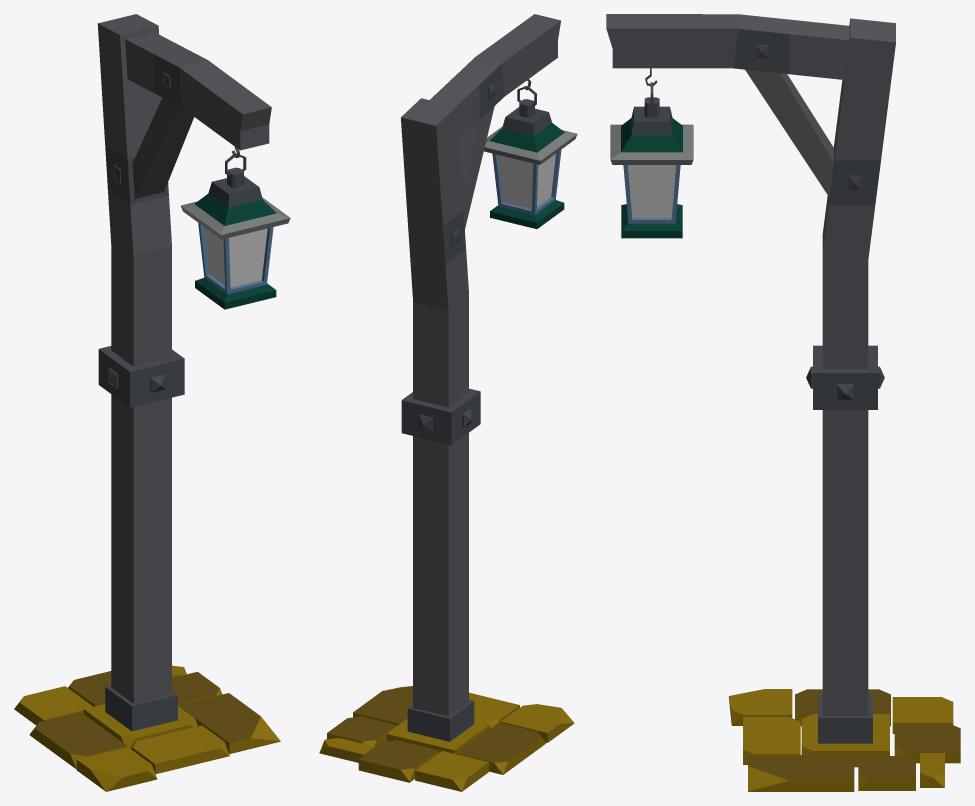
File: SM_Lamp_01_B.gltf
3 renders of one model, left to right at view 1: azimuth 30°, elevation 25°; view 2: azimuth 150°, elevation 25°; view 3: azimuth 270°, elevation 25°, orthographic. The views are drawn at different scales.
Visible parts, largest first — view 1: SM_Lamp_01_B; view 2: SM_Lamp_01_B; view 3: SM_Lamp_01_B.
Boxes of the visible parts, left/top/right/bottom form: SM_Lamp_01_B: left=14, top=14, right=290, bottom=791; SM_Lamp_01_B: left=319, top=14, right=577, bottom=791; SM_Lamp_01_B: left=606, top=14, right=960, bottom=791.
Size of the model in its own units: 0.6371 by 2.36 by 1.04.
